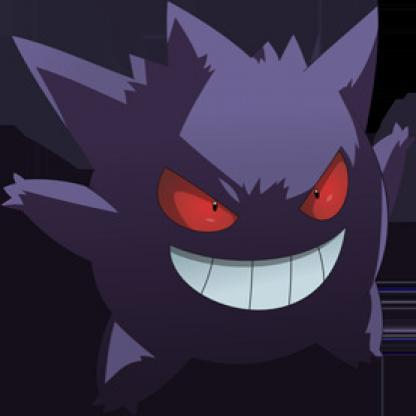Gengar: (1, 1, 416, 412)
